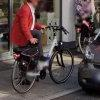bicycles: (10, 24, 75, 95)
